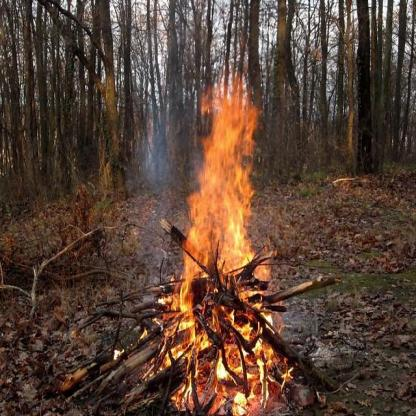fire: (138, 66, 289, 416)
